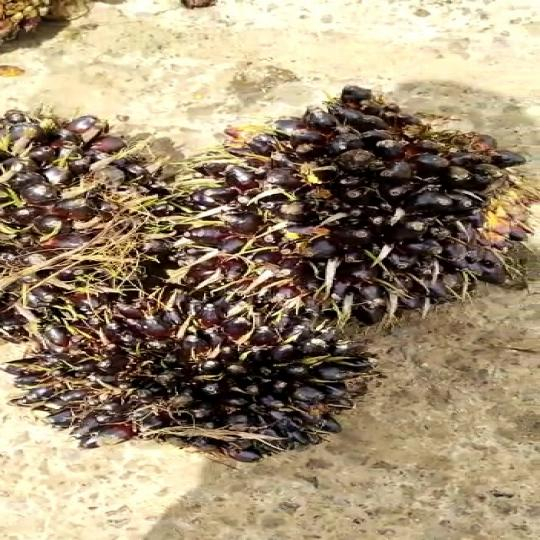mentah: (188, 70, 540, 324), (19, 290, 381, 460), (0, 100, 189, 338)
